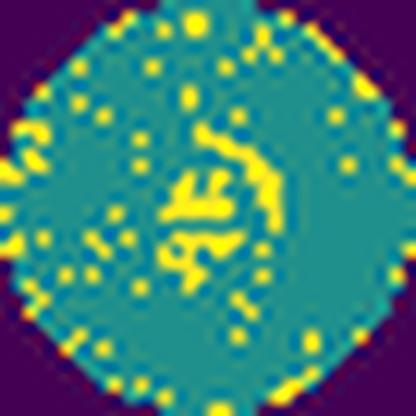Center: (156, 119, 287, 295)
